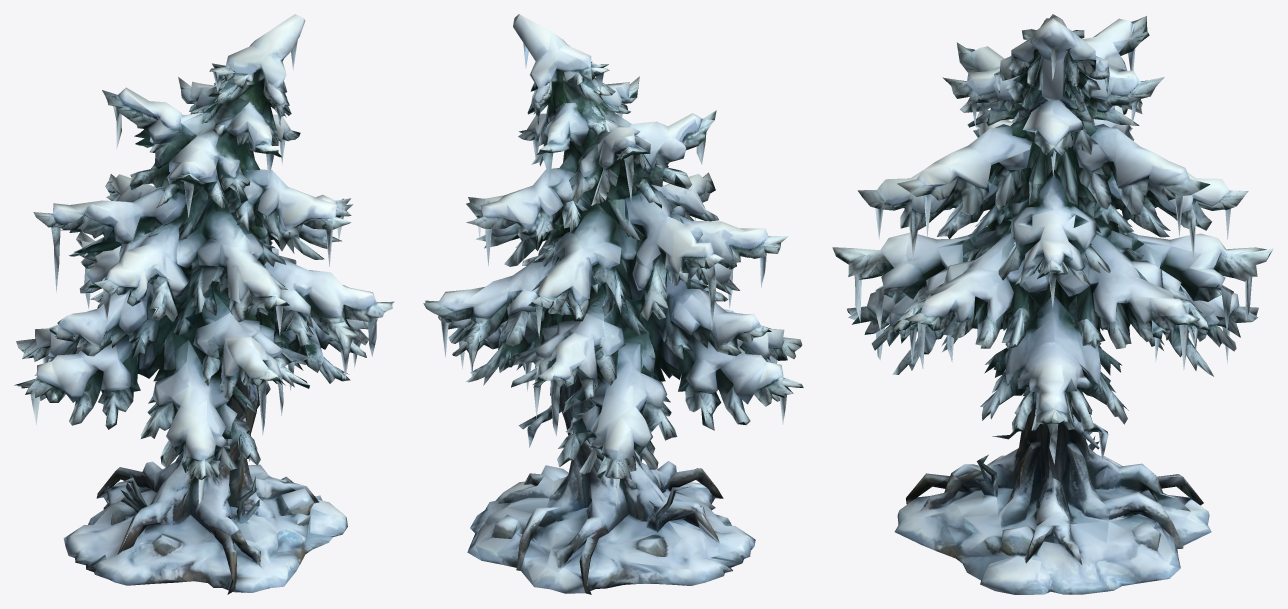
The model's file is f_pine_a.glb.
3 renders of one model, left to right at view 1: azimuth 30°, elevation 25°; view 2: azimuth 150°, elevation 25°; view 3: azimuth 270°, elevation 25°, orthographic. The views are drawn at different scales.
Visible parts, largest first — view 1: tripo_node_aef13808-77b3-467c-b705-e6990c91b62b; view 2: tripo_node_aef13808-77b3-467c-b705-e6990c91b62b; view 3: tripo_node_aef13808-77b3-467c-b705-e6990c91b62b.
Part boxes in pixels (x1,y1,x2,y2): tripo_node_aef13808-77b3-467c-b705-e6990c91b62b: (14,14,394,594); tripo_node_aef13808-77b3-467c-b705-e6990c91b62b: (423,14,803,594); tripo_node_aef13808-77b3-467c-b705-e6990c91b62b: (832,14,1273,594).
Size of the model in its own units: 0.7441 by 0.984 by 0.7077.
1 material, 1 textured.
